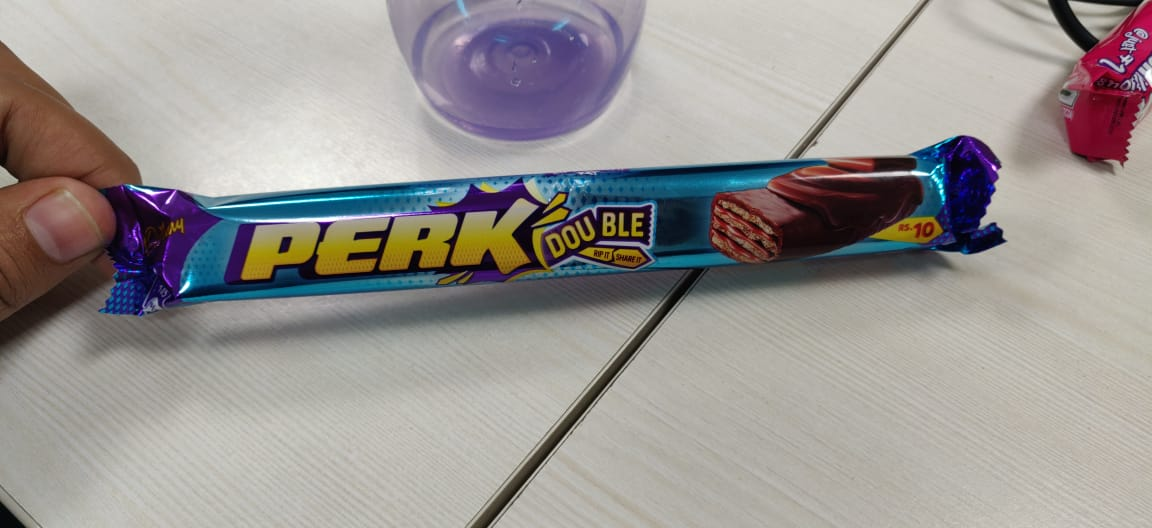perk: (90, 123, 1022, 328)
